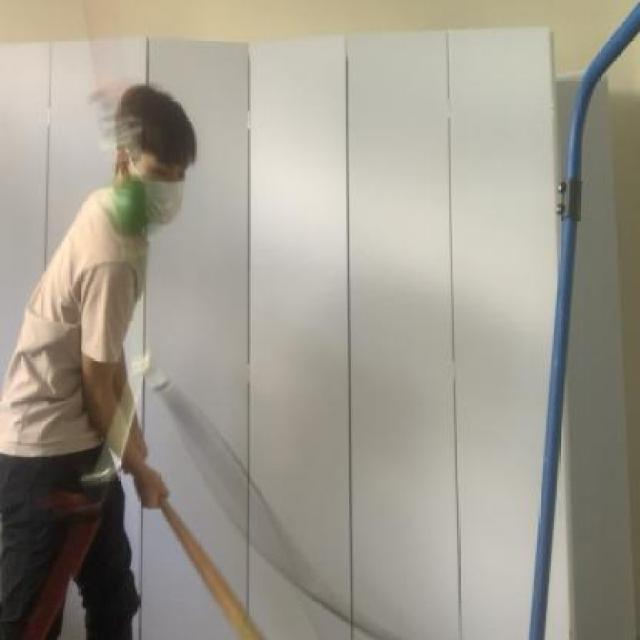baseball: (104, 174, 154, 238)
